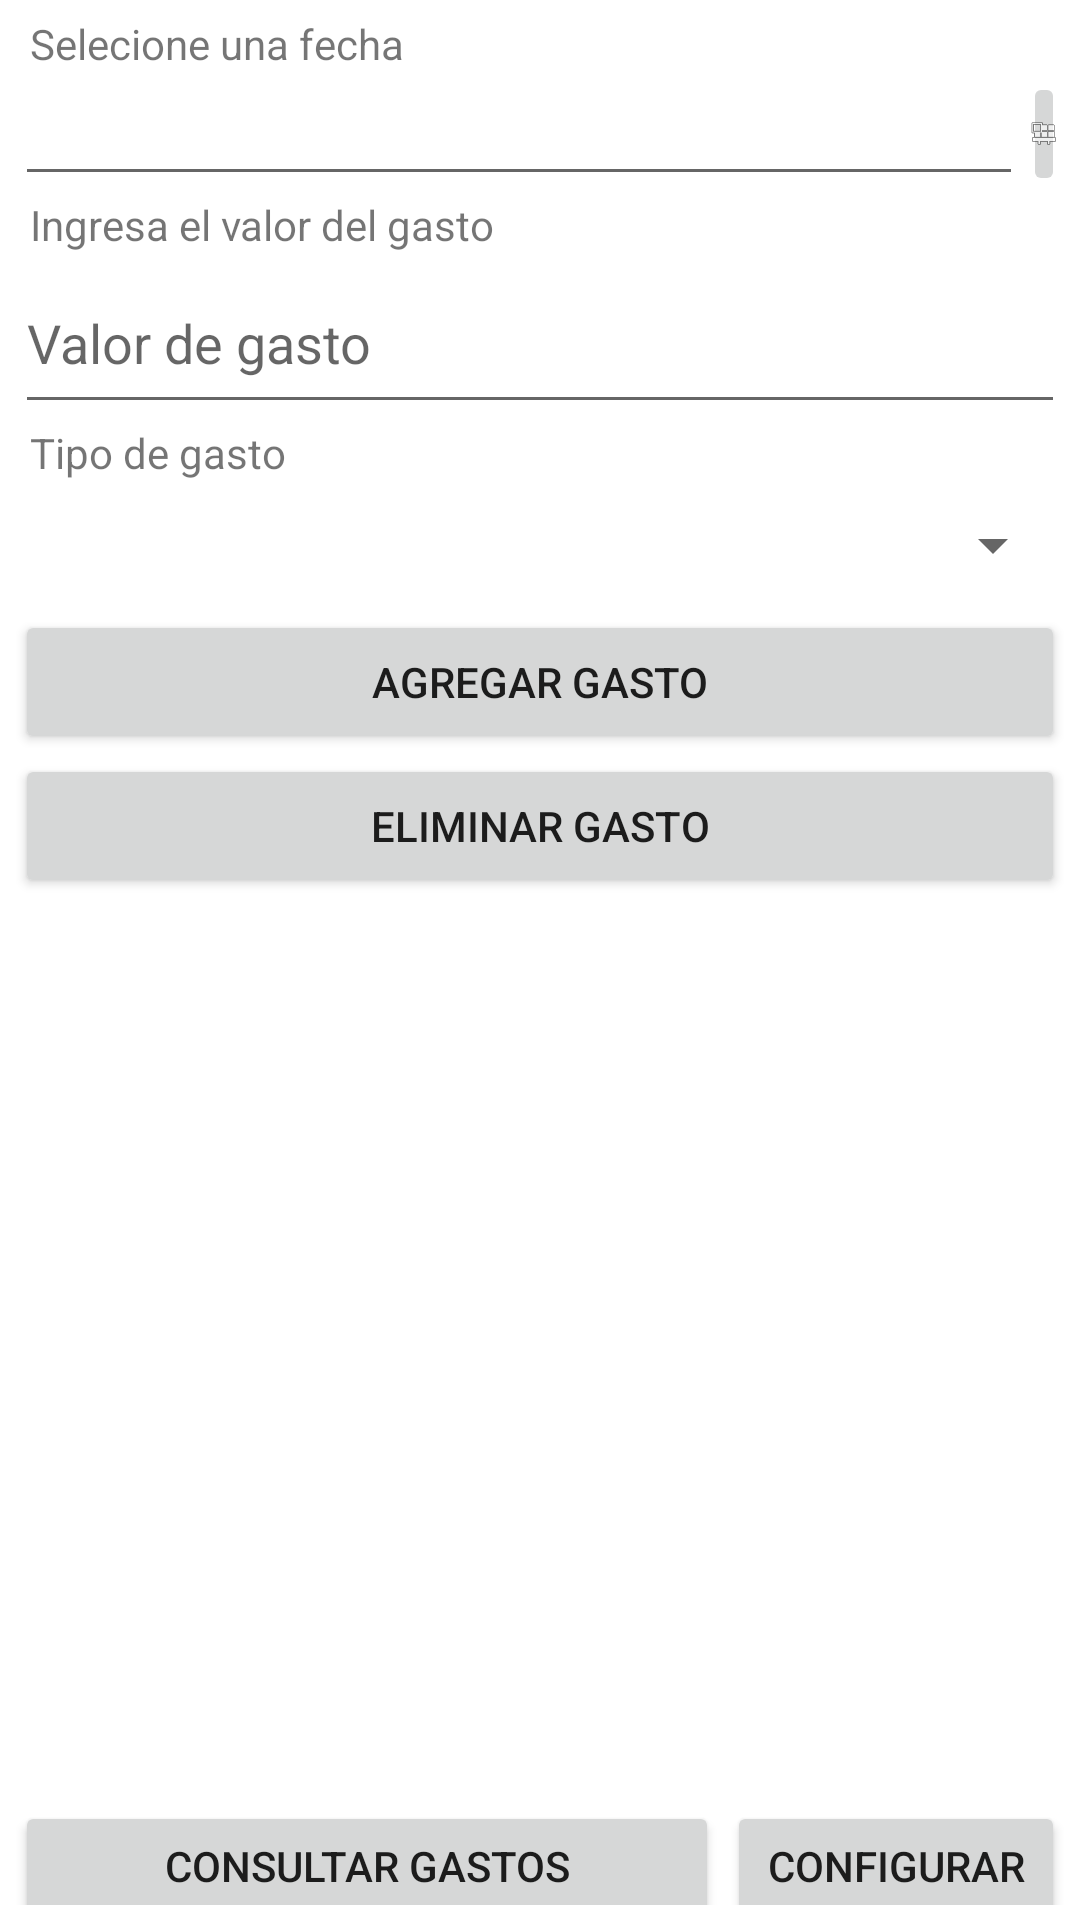

Icons on this 1080px×1920px Android screen, each with the point to tap as (x,y):
today: (1043,134)
